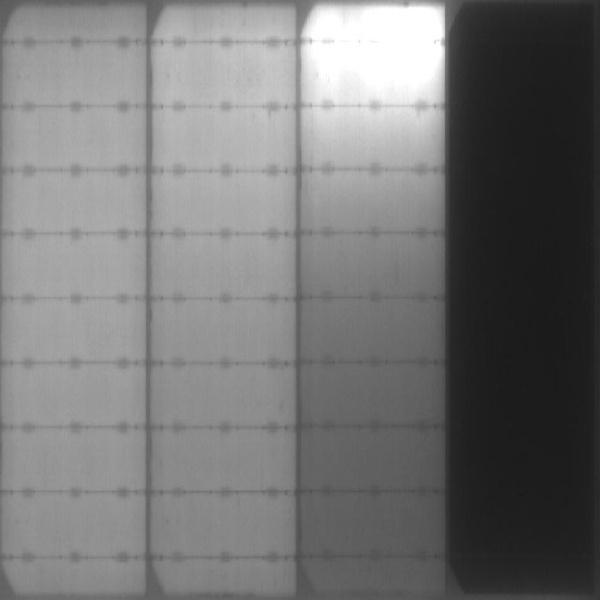hot_spot: (380, 5, 434, 79), (315, 47, 375, 77), (354, 11, 379, 41), (312, 16, 342, 40)
no_electricity: (449, 3, 598, 597)
